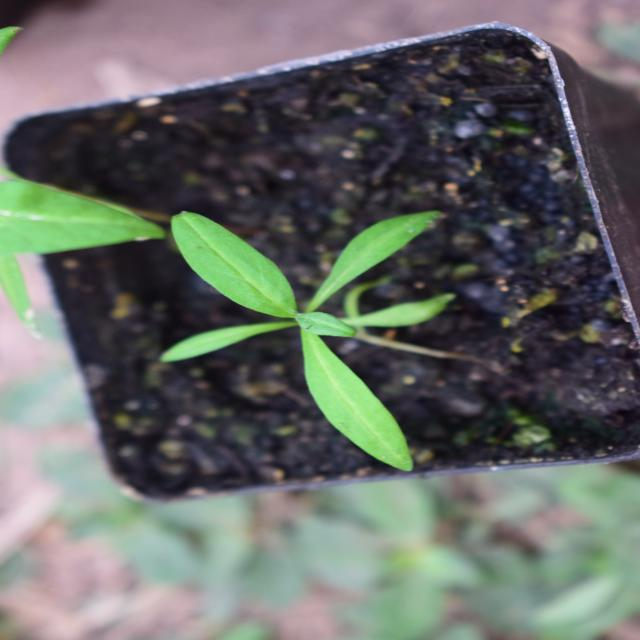white_smart_weed: (203, 142, 448, 488)
